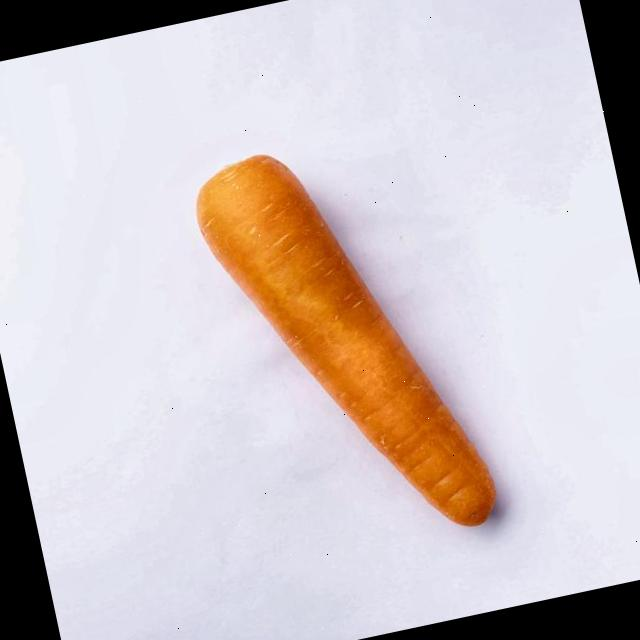carrot: (196, 155, 495, 523)
